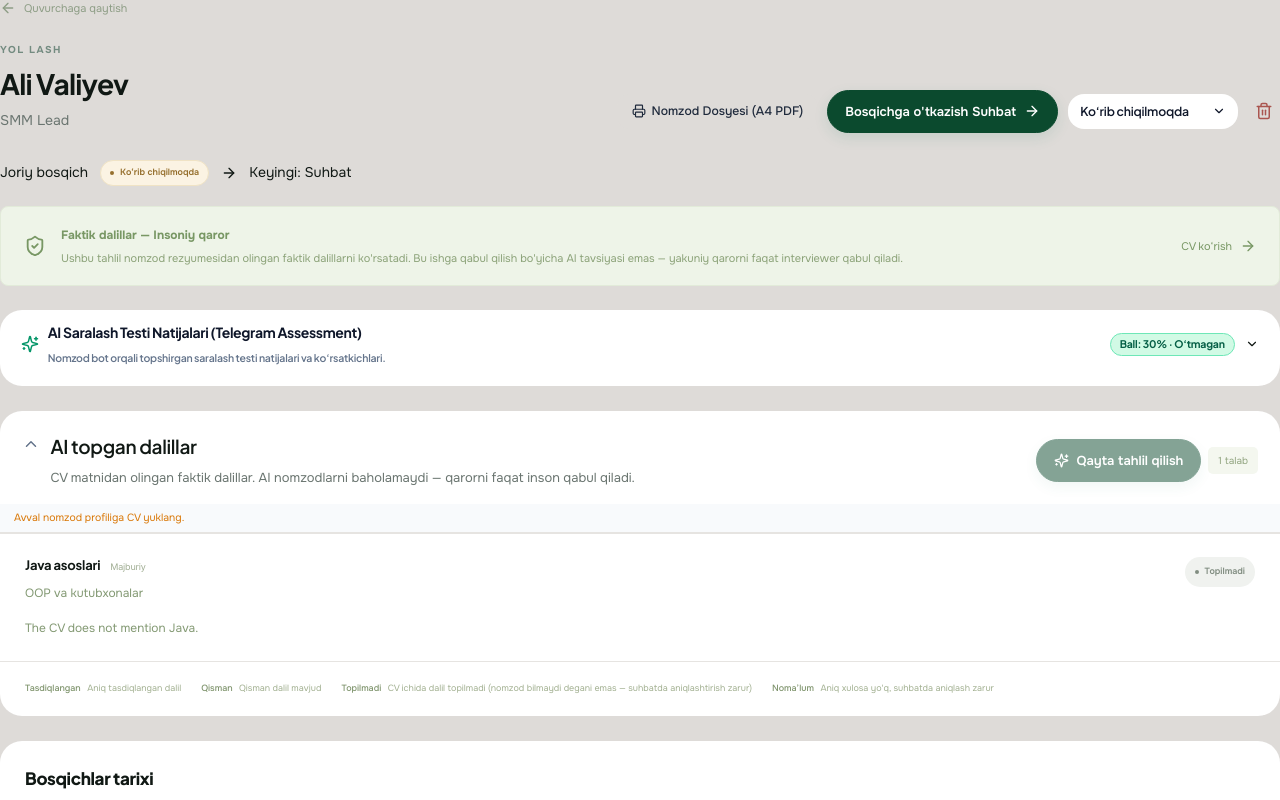
it: CV evidence accordion › collapses and expands without losing the header action
The width and height of the screenshot is (1280, 800).
Click the button "AI topgan dalillar": point(124, 446) [22,432,1020,489]
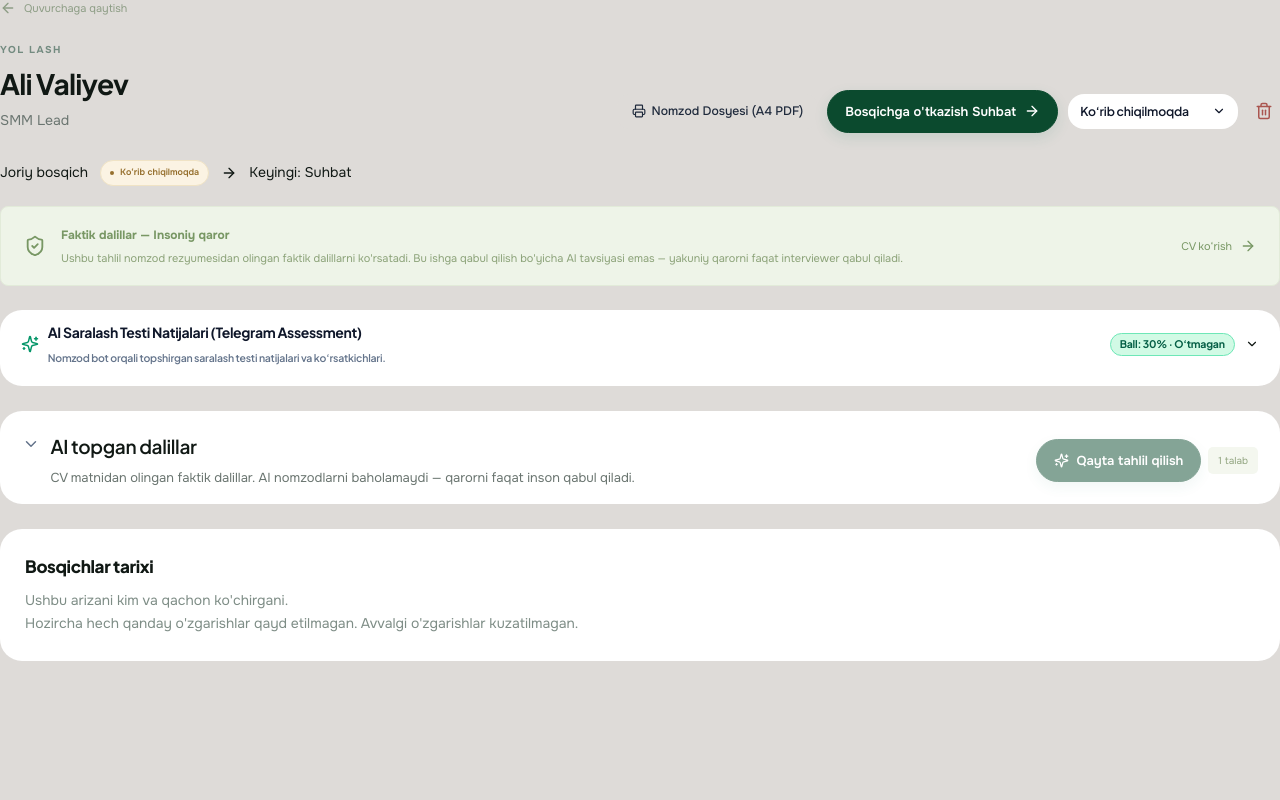
Check: the button "Qayta tahlil qilish" is shown, box [1036,439,1201,482]
Check: the button "AI topgan dalillar" is collapsed
Check: the text "The CV does not mention Java." is gone
Click the button "AI topgan dalillar": point(124, 446) [22,432,1020,489]
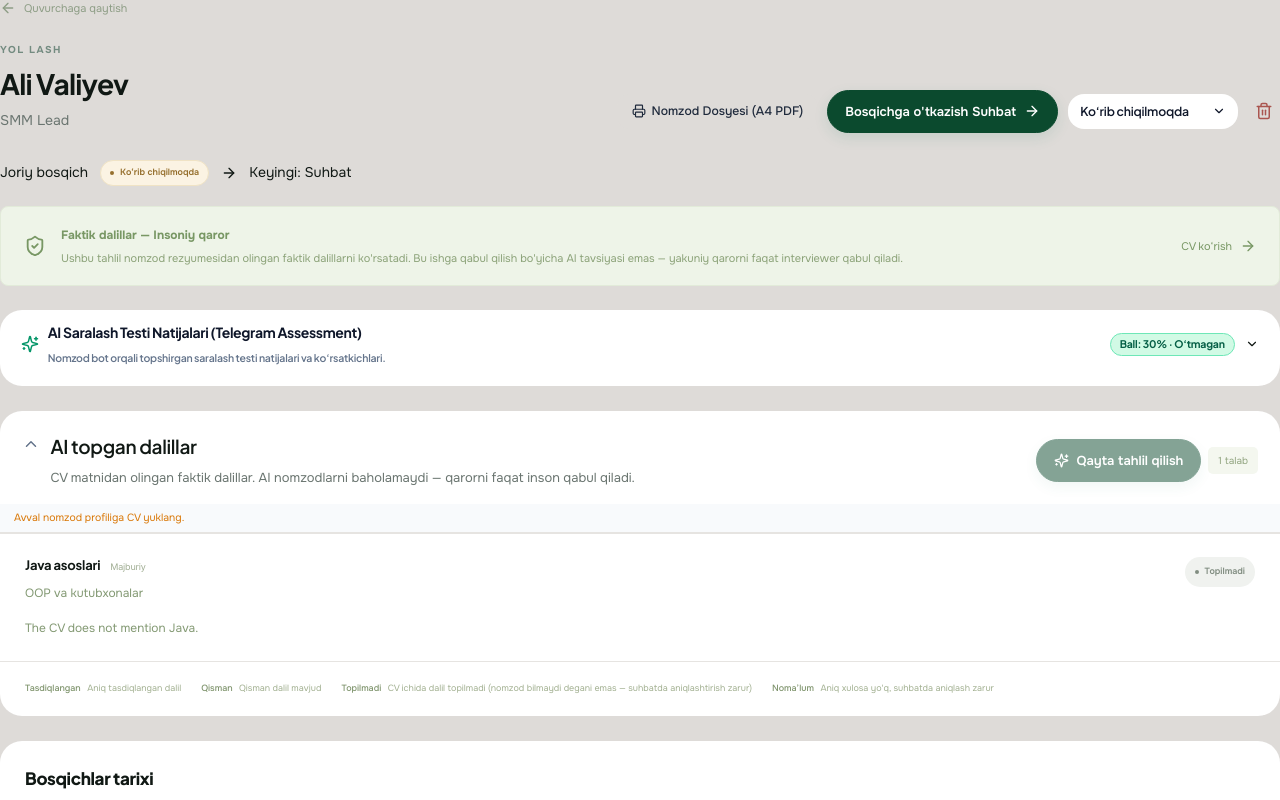
Check: the text "The CV does not mention Java." is shown, box [25,620,198,636]
